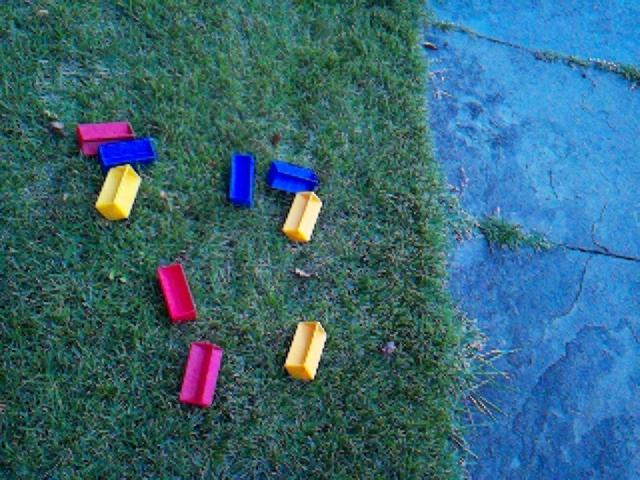blue: (98, 136, 157, 172), (265, 158, 320, 195), (227, 151, 257, 209)
red: (178, 340, 224, 409), (155, 261, 198, 325), (75, 119, 136, 157)
yellow: (283, 319, 328, 382), (95, 163, 143, 222), (282, 190, 324, 244)
